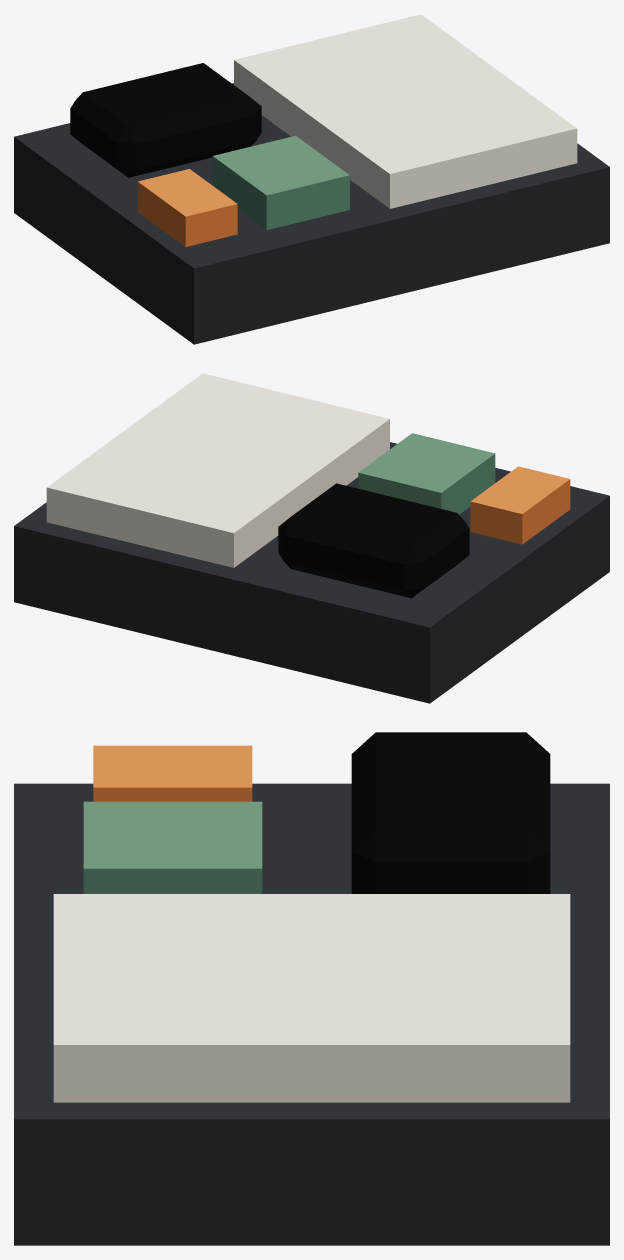
File: Item_bento.fbx
3 renders of one model, top to bottom at view 1: azimuth 30°, elevation 25°; view 2: azimuth 150°, elevation 25°; view 3: azimuth 270°, elevation 25°, orthographic. The views are drawn at different scales.
Parts seen in each view (by area): view 1: Tray, Rice.001, Fry, Greens, Pickle; view 2: Tray, Rice.001, Fry, Greens, Pickle; view 3: Tray, Rice.001, Fry, Greens, Pickle.
Part boxes in pixels (box(x1,y1,x2,y2)): Tray: box(14, 83, 609, 344); Rice.001: box(234, 14, 577, 208); Fry: box(70, 63, 261, 177); Greens: box(212, 135, 349, 230); Pickle: box(137, 169, 237, 246); Tray: box(14, 442, 609, 703); Rice.001: box(46, 373, 389, 567); Fry: box(278, 483, 469, 598); Greens: box(358, 433, 495, 514); Pickle: box(470, 466, 570, 544); Tray: box(14, 783, 609, 1245); Rice.001: box(53, 894, 570, 1102); Fry: box(351, 732, 550, 893); Greens: box(83, 801, 262, 893); Pickle: box(93, 745, 252, 801).
Bounding box in the file's own units: 0.27 × 0.0797 × 0.2025.
